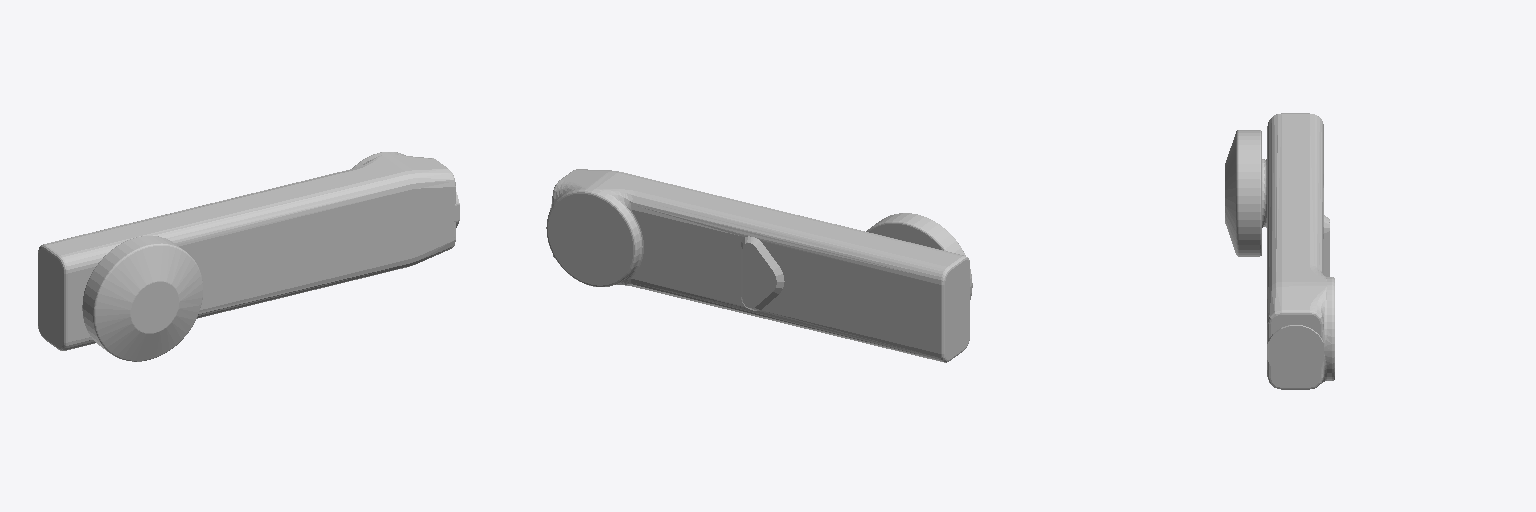
The model's file is solo12_hip_fe_fl.obj.
3 views of the same model, side by side, from view 1: azimuth 30°, elevation 25°; view 2: azimuth 150°, elevation 25°; view 3: azimuth 270°, elevation 25° (orthographic).
Visible parts, largest first — view 1: solo12_hip_fe_fl; view 2: solo12_hip_fe_fl; view 3: solo12_hip_fe_fl.
Boxes of the visible parts, x1=… form: solo12_hip_fe_fl: x1=38, y1=152, x2=459, y2=361; solo12_hip_fe_fl: x1=546, y1=169, x2=972, y2=362; solo12_hip_fe_fl: x1=1225, y1=113, x2=1334, y2=389.
Size of the model in its own units: 0.1614 by 0.045 by 0.0391.